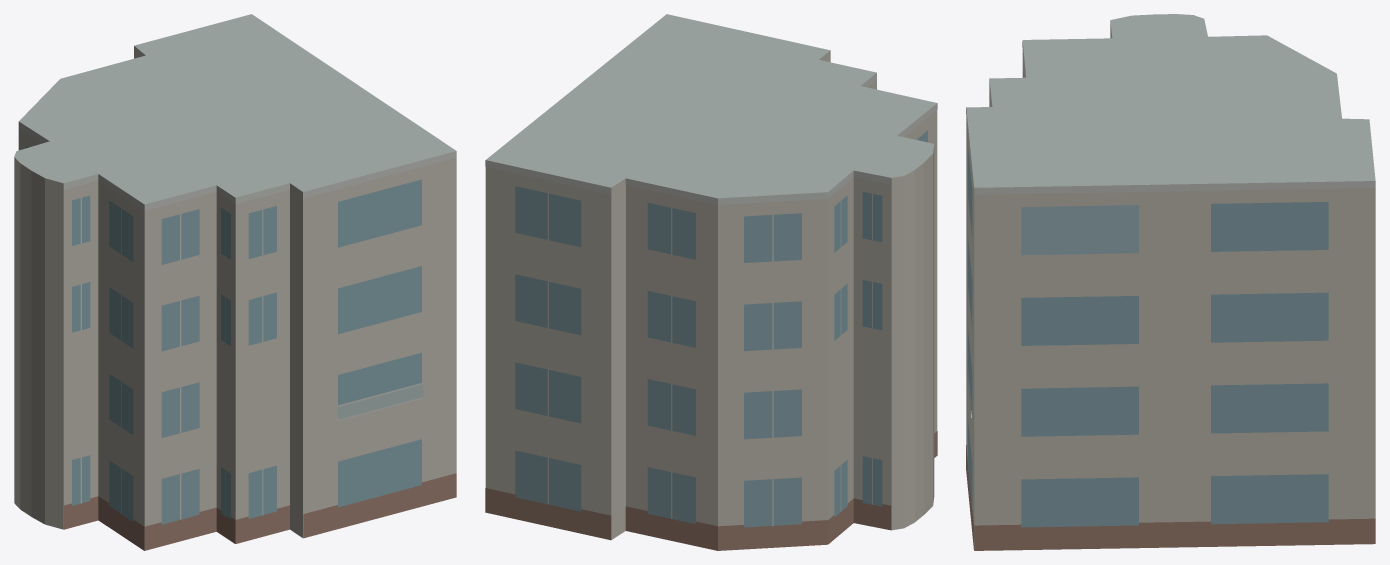
The model's file is survey-upis-32697746.glb.
3 renders of one model, left to right at view 1: azimuth 30°, elevation 25°; view 2: azimuth 150°, elevation 25°; view 3: azimuth 270°, elevation 25°, orthographic. The views are drawn at different scales.
Parts seen in each view (by area): view 1: survey-upis-32697746.tmp; view 2: survey-upis-32697746.tmp; view 3: survey-upis-32697746.tmp.
Part boxes in pixels (x1,y1,x2,y2): survey-upis-32697746.tmp: (14, 14, 456, 550); survey-upis-32697746.tmp: (485, 14, 937, 550); survey-upis-32697746.tmp: (966, 14, 1375, 550).
Bounding box in the file's own units: 13.15 × 12.8 × 13.09.
